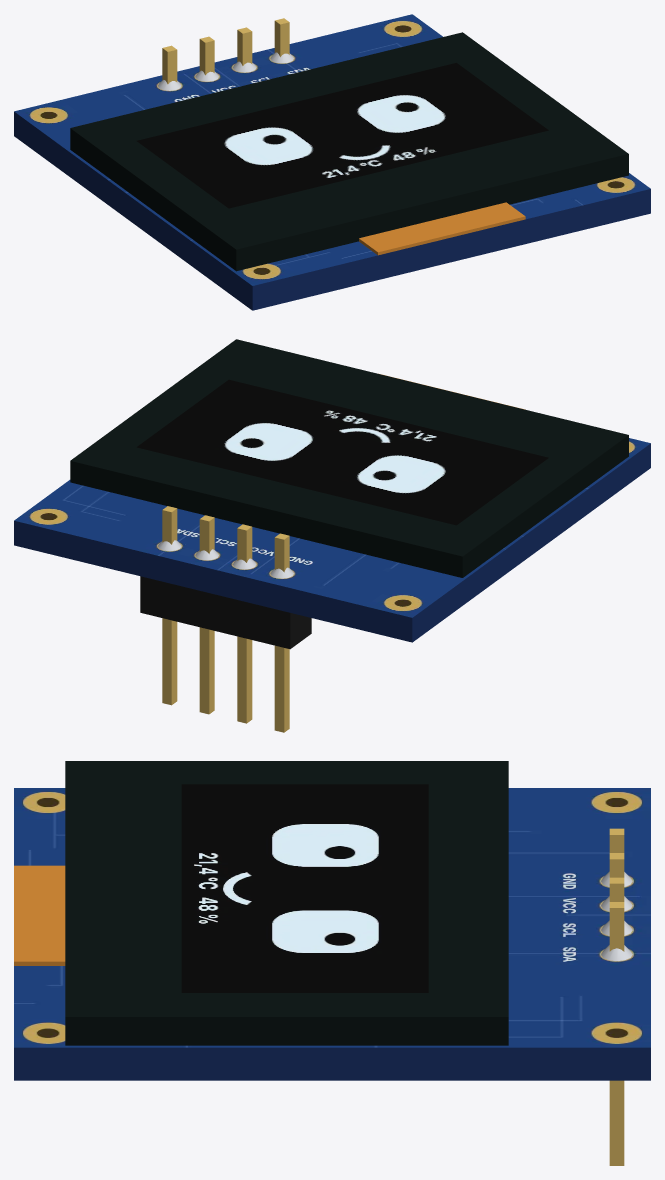
File: pantalla-oled-096.glb
The picture shows the model from 3 angles, top to bottom: view 1: azimuth 30°, elevation 25°; view 2: azimuth 150°, elevation 25°; view 3: azimuth 270°, elevation 25°; orthographic projection. The views are drawn at different scales.
Bounding box in the file's own units: 27 × 12.5 × 28.
4 materials, 4 textured.
